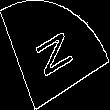N_SW: (31, 26, 79, 84)
